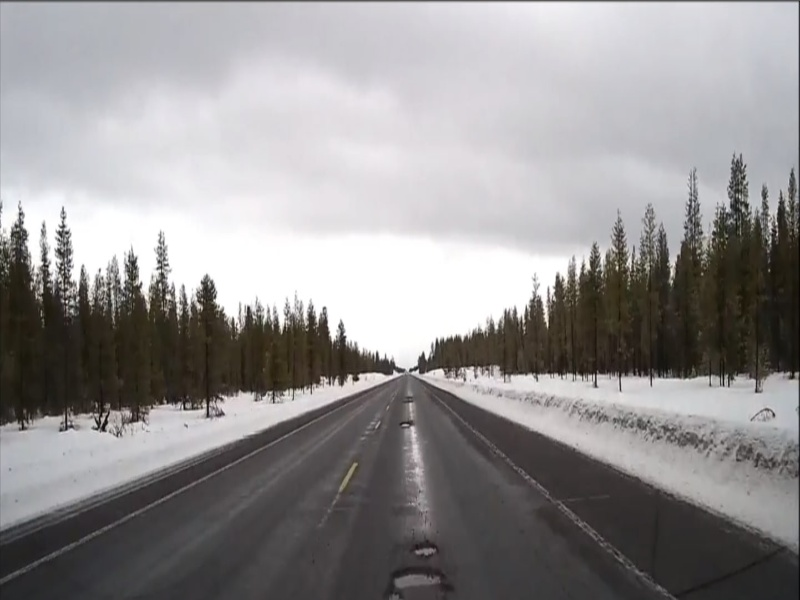pothole: (382, 564, 461, 600), (406, 540, 440, 559), (397, 419, 413, 429)
